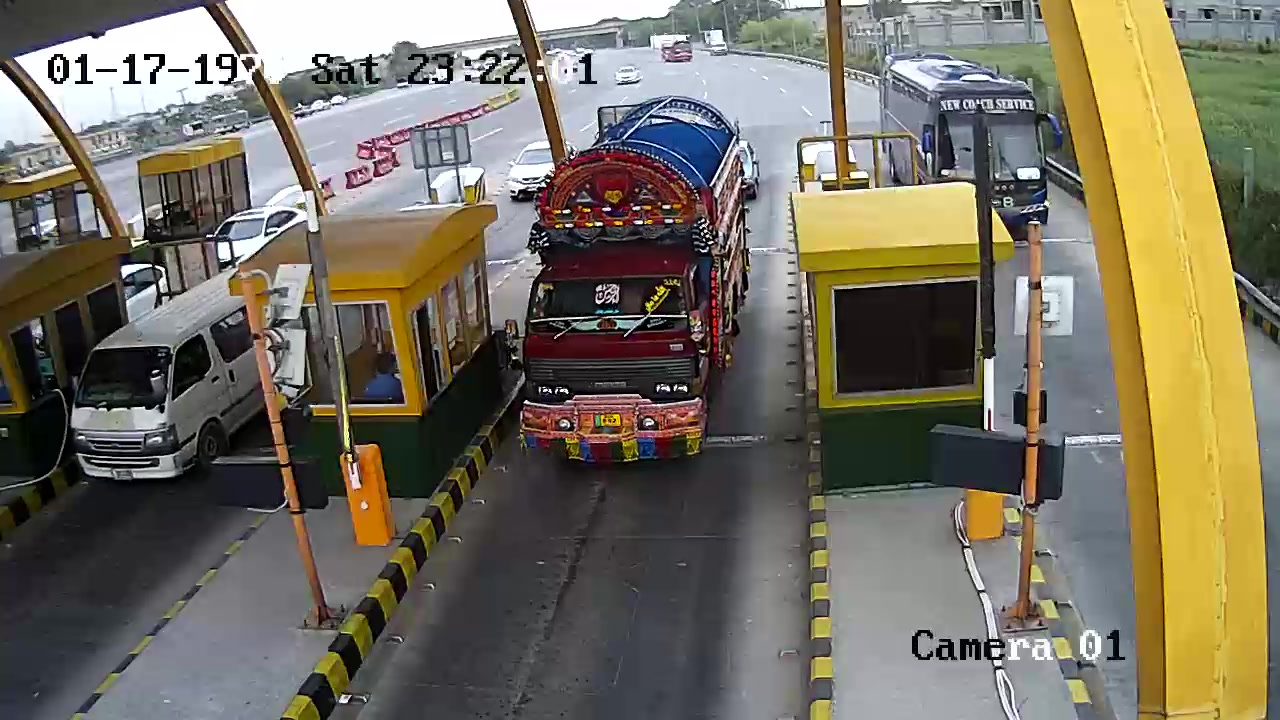F5: (515, 95, 756, 466)
